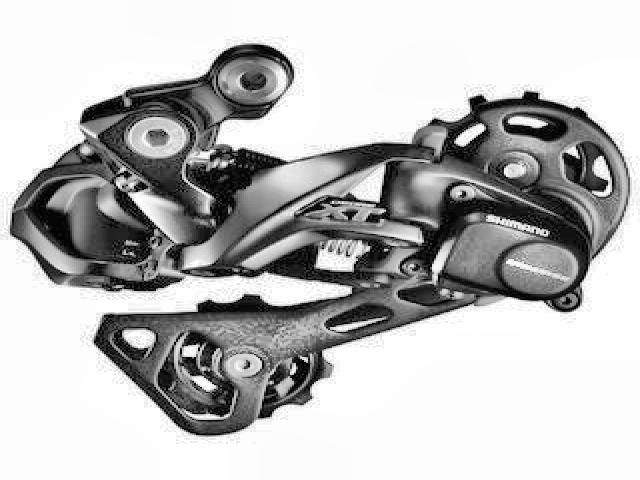rear_derailleur: (6, 43, 638, 439)
